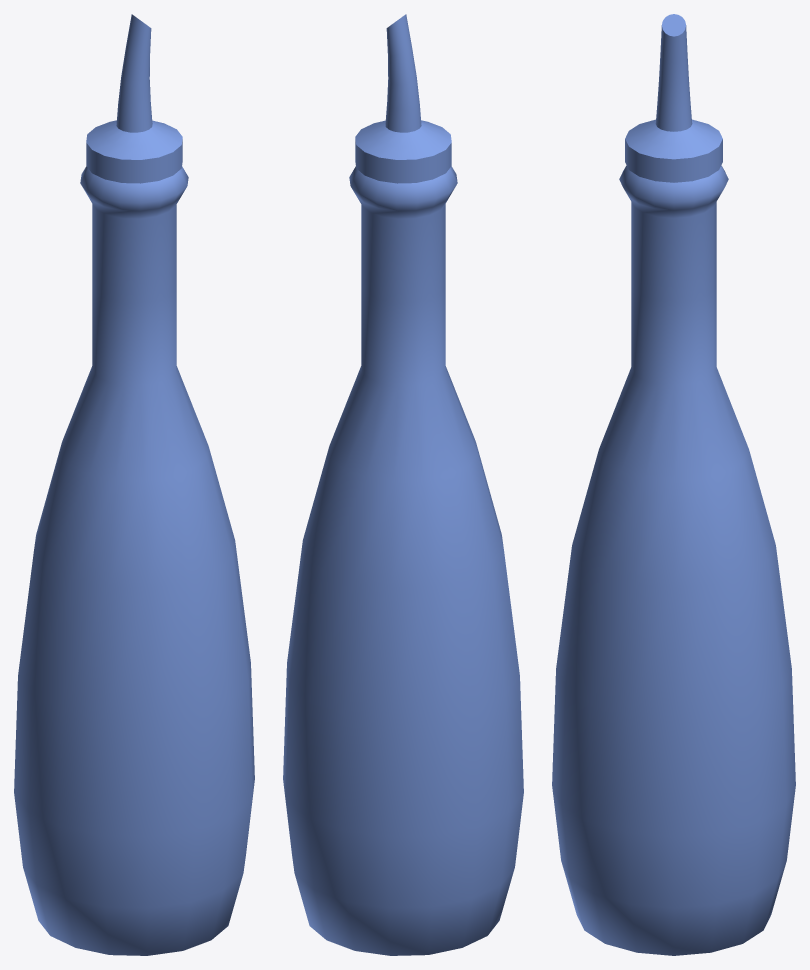
File: MOD_BAR CoconutWaterTransparent.fbx
3 views of the same model, side by side, from view 1: azimuth 30°, elevation 25°; view 2: azimuth 150°, elevation 25°; view 3: azimuth 270°, elevation 25° (orthographic).
Parts seen in each view (by area): view 1: coconut_water, pourer2; view 2: coconut_water, pourer2; view 3: coconut_water, pourer2.
Boxes of the visible parts, x1=… form: coconut_water: x1=14, y1=166, x2=254, y2=955; pourer2: x1=86, y1=14, x2=182, y2=183; coconut_water: x1=283, y1=166, x2=523, y2=955; pourer2: x1=355, y1=14, x2=451, y2=183; coconut_water: x1=552, y1=165, x2=795, y2=955; pourer2: x1=625, y1=14, x2=722, y2=182.
Bounding box in the file's own units: 9.62 × 39.17 × 9.62.
